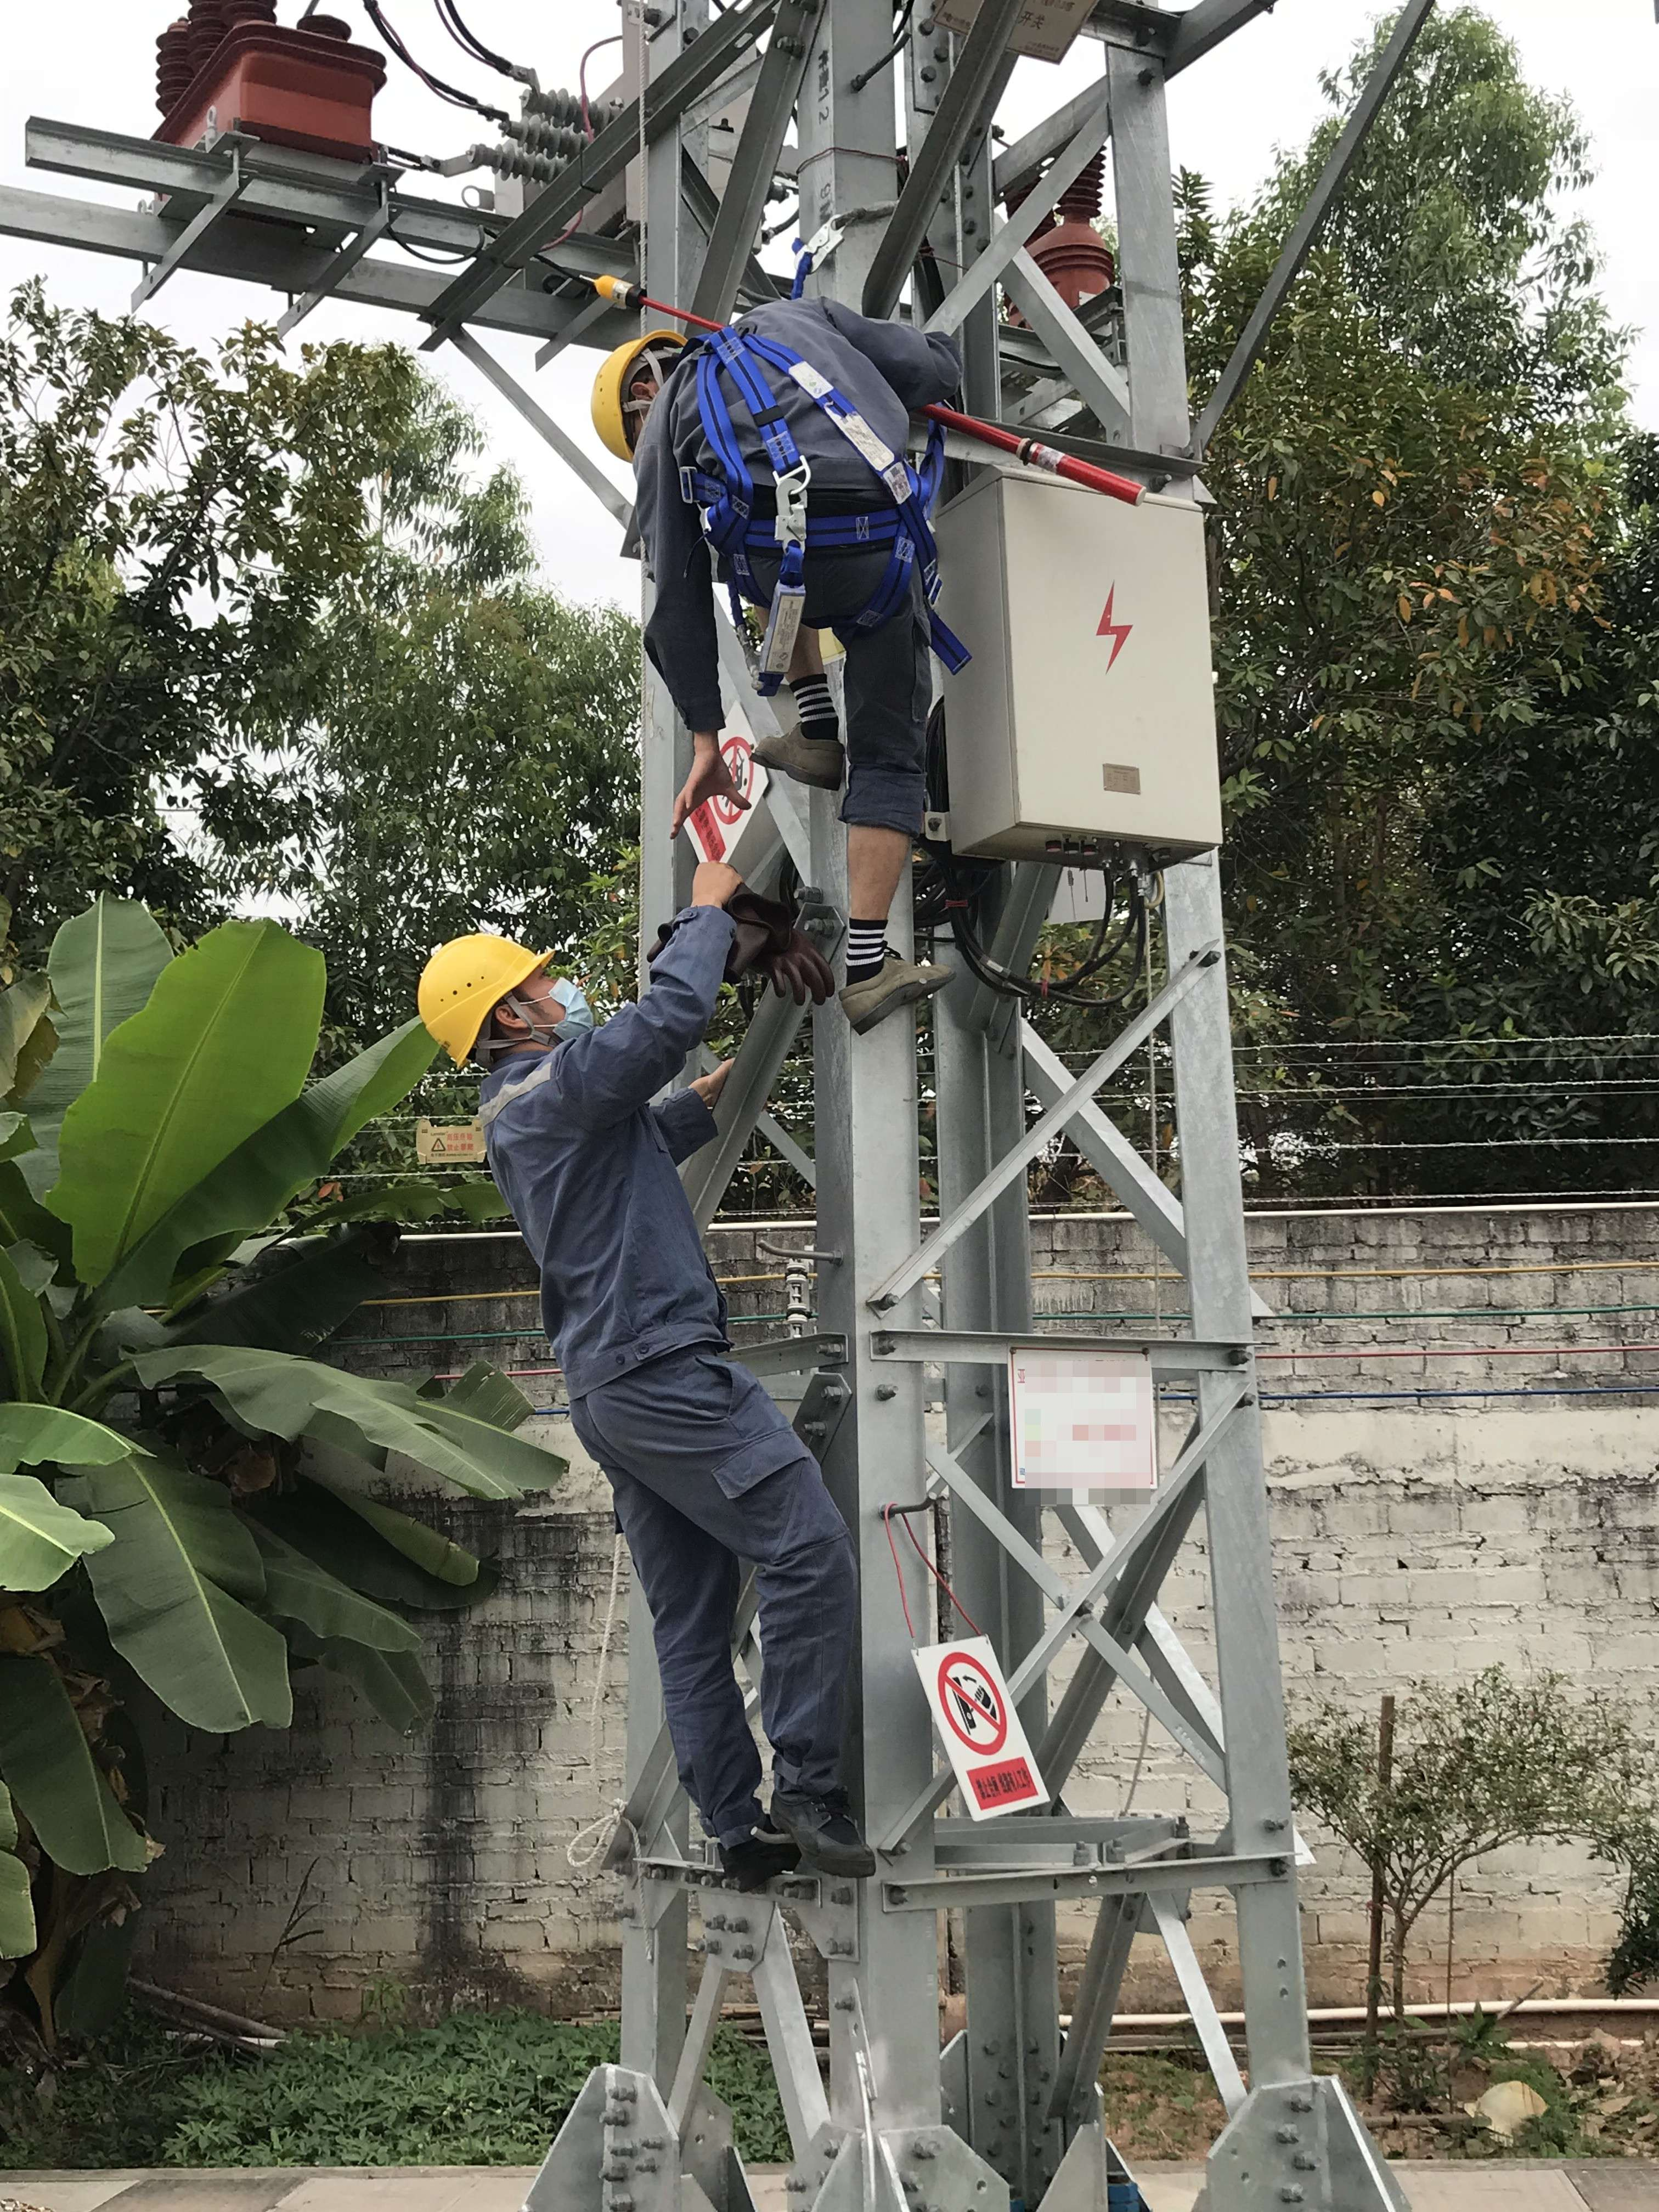downsuit: (579, 1392, 842, 1811), (735, 529, 938, 822)
upsuit: (498, 1061, 725, 1369), (662, 291, 918, 554)
wrongbottom: (835, 768, 922, 914)
